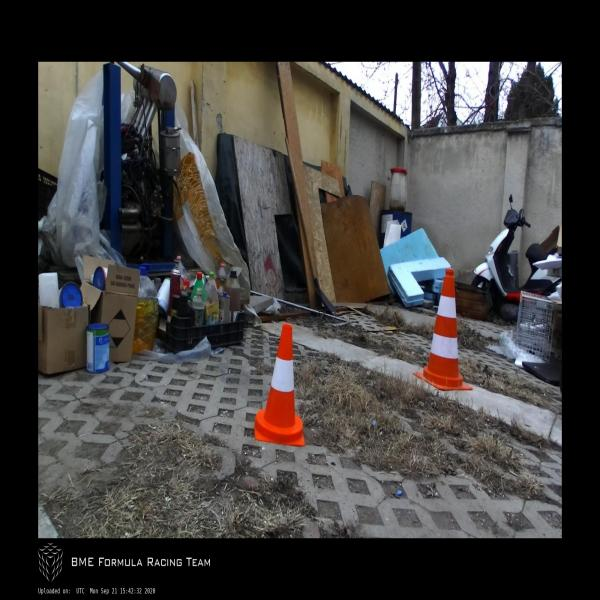large_orange_cone: (413, 268, 472, 390)
orange_cone: (252, 324, 304, 447)
